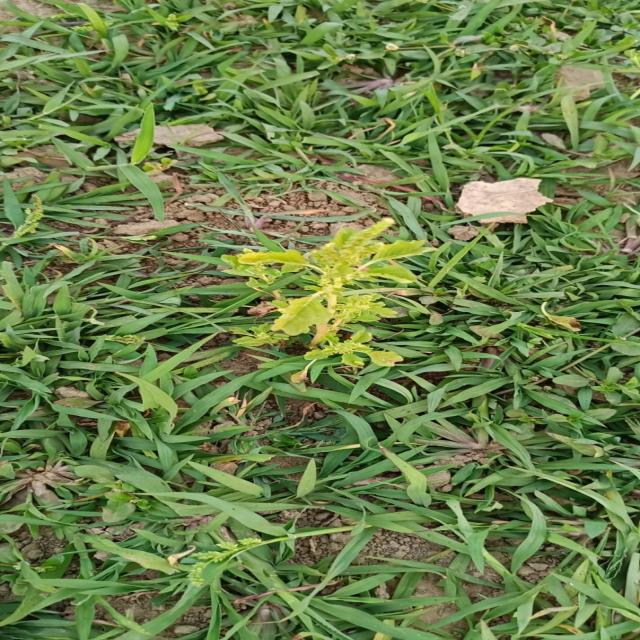plant: (222, 218, 435, 382)
